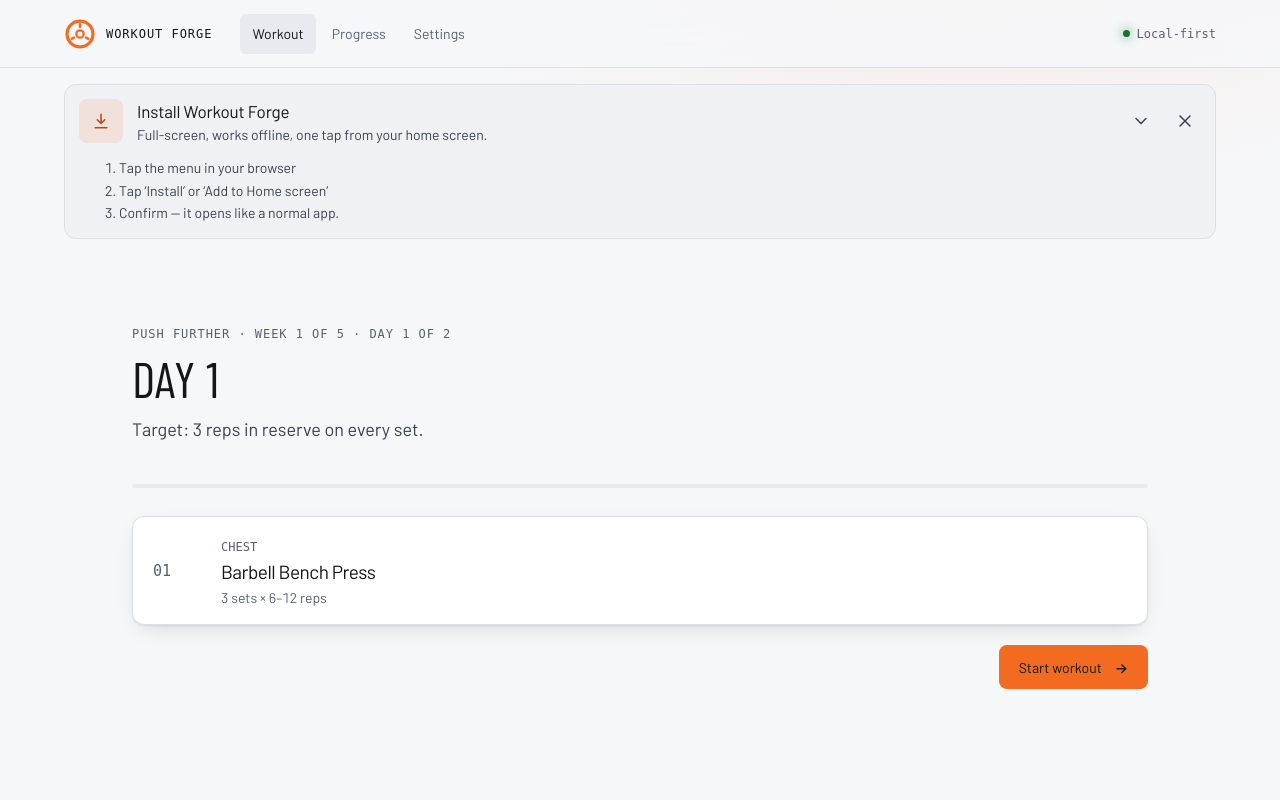
Scenario: install banner › shows on the Today surface, then minimizes to a chip, expands and closes
Check: the heading "Install Workout Forge" is shown, box x1=137 y1=101 x2=289 y2=121
Check: the text "Full-screen, works offline, one tap from your home screen." is shown, box x1=137 y1=126 x2=487 y2=143
Click the button named "Minimize install banner" at (1141, 121), box x1=1119 y1=99 x2=1163 y2=143
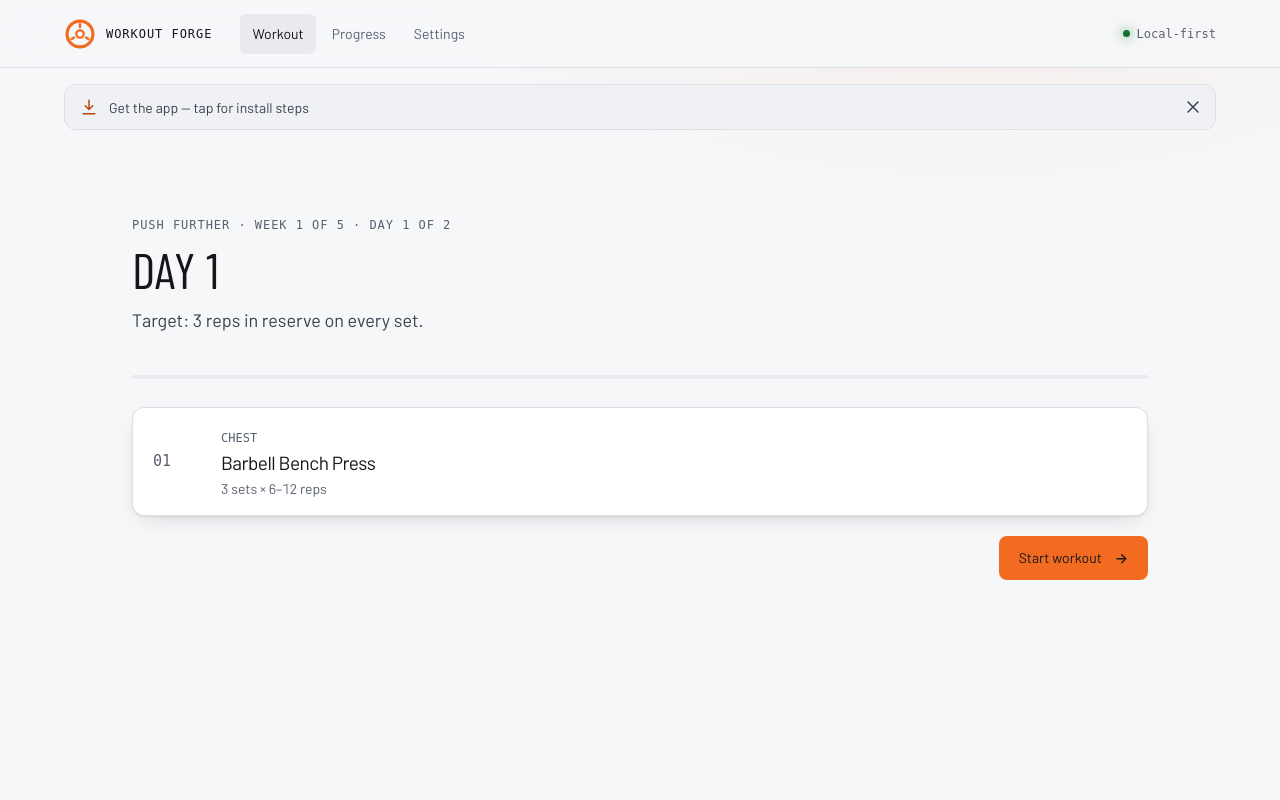
Check: the heading "Install Workout Forge" is gone
Click the button "Get the app — tap for install steps" at (209, 107), box x1=69 y1=85 x2=1171 y2=129
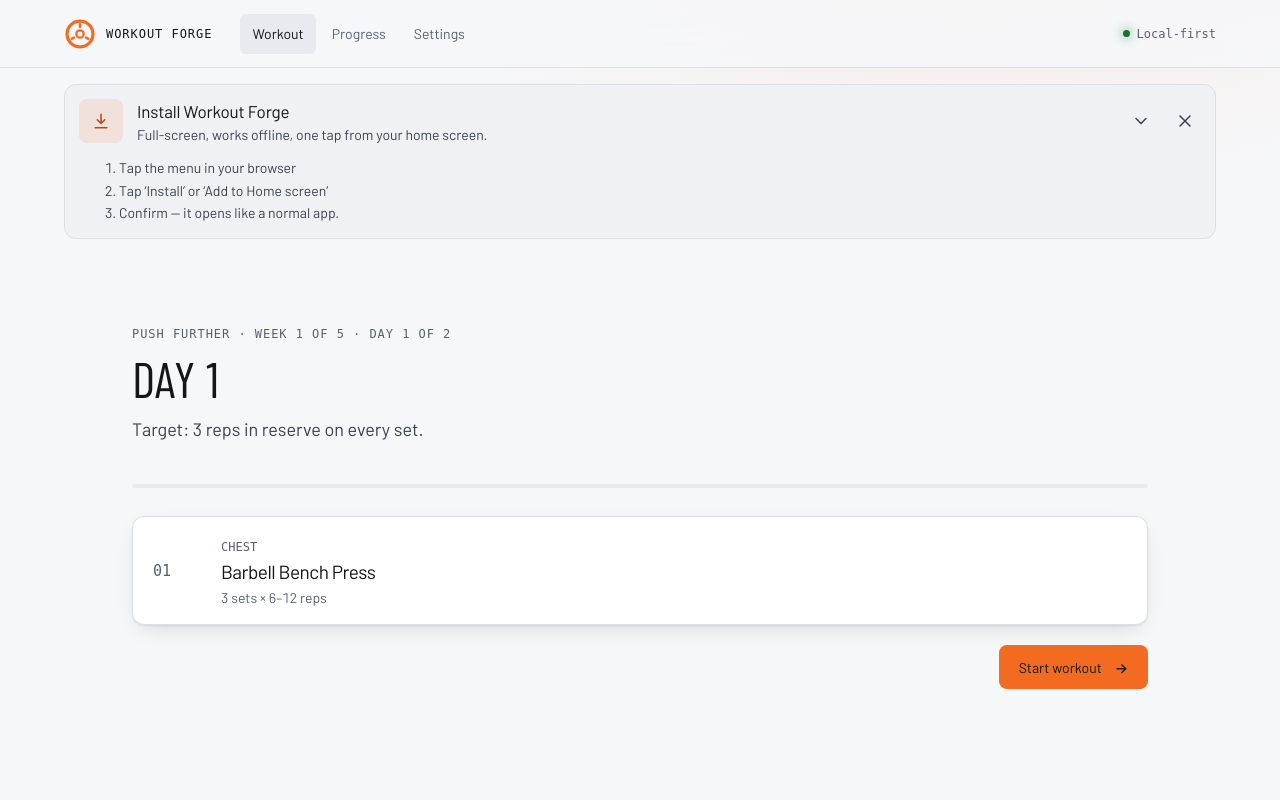
Check: the heading "Install Workout Forge" is shown, box x1=137 y1=101 x2=289 y2=121
Click the button named "Close install banner" at (1185, 121), box x1=1163 y1=99 x2=1207 y2=143
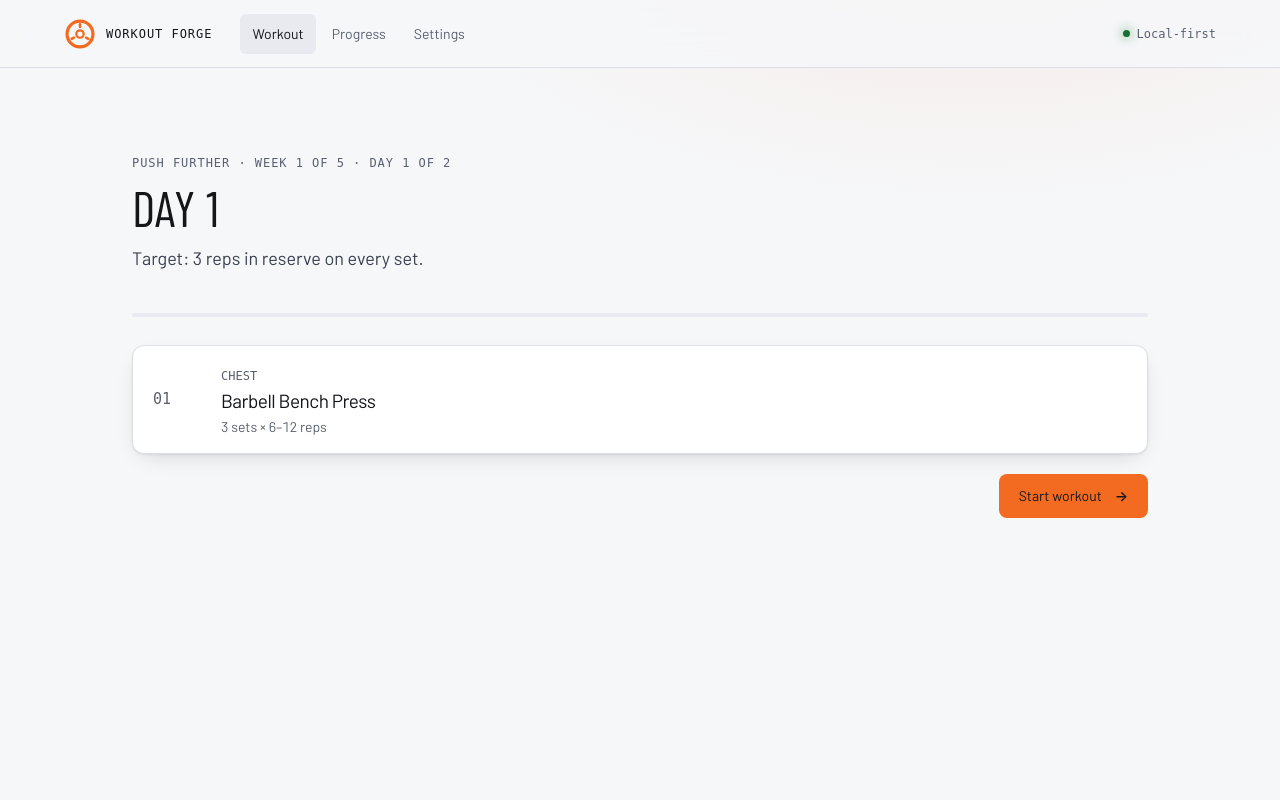
Check: the button "Get the app — tap for install steps" is not shown
Check: the heading "Install Workout Forge" is gone
